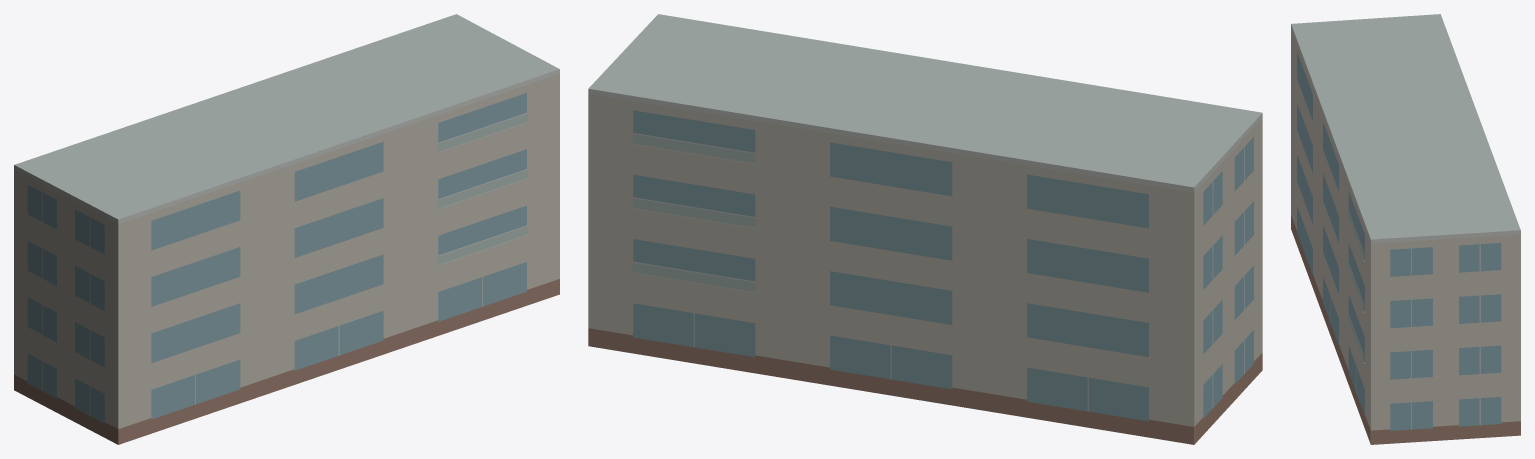
Rendered from survey-upis-32800107.glb.
3 renders of one model, left to right at view 1: azimuth 30°, elevation 25°; view 2: azimuth 150°, elevation 25°; view 3: azimuth 270°, elevation 25°, orthographic. The views are drawn at different scales.
Visible parts, largest first — view 1: survey-upis-32800107.tmp; view 2: survey-upis-32800107.tmp; view 3: survey-upis-32800107.tmp.
Boxes of the visible parts, left/top/right/bottom form: survey-upis-32800107.tmp: left=14, top=14, right=559, bottom=444; survey-upis-32800107.tmp: left=588, top=14, right=1262, bottom=444; survey-upis-32800107.tmp: left=1291, top=14, right=1520, bottom=444.
Size of the model in its own units: 28.76 by 12.2 by 12.38.
